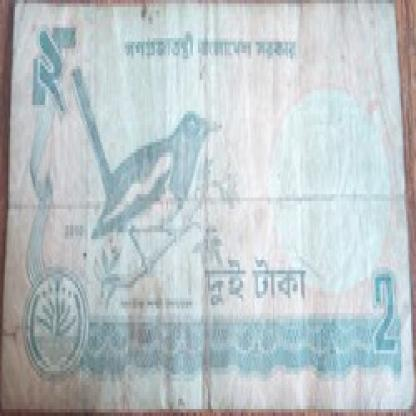two taka: (362, 260, 412, 392), (35, 24, 73, 111)
